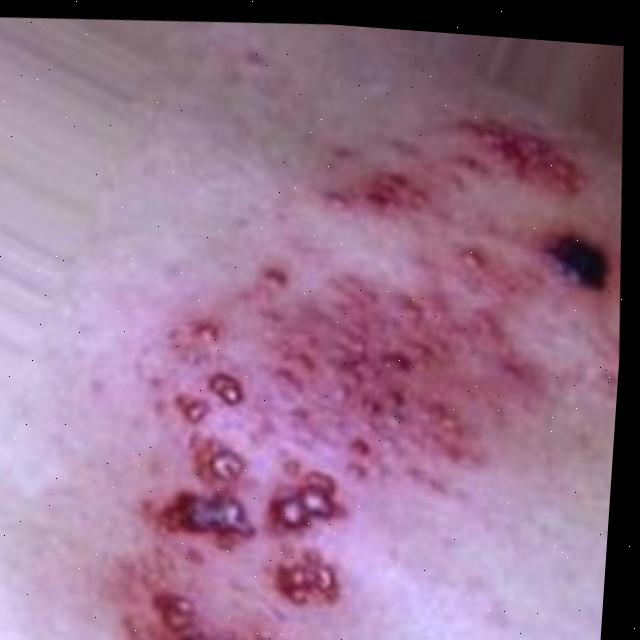Shingles: (104, 78, 636, 640)
